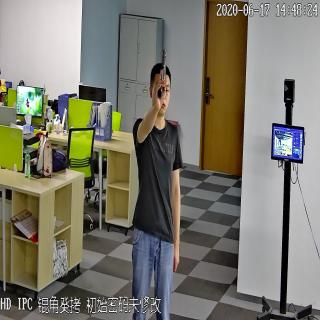gun: (156, 48, 168, 100)
